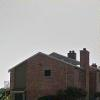Chimney: (60, 42, 92, 67)
